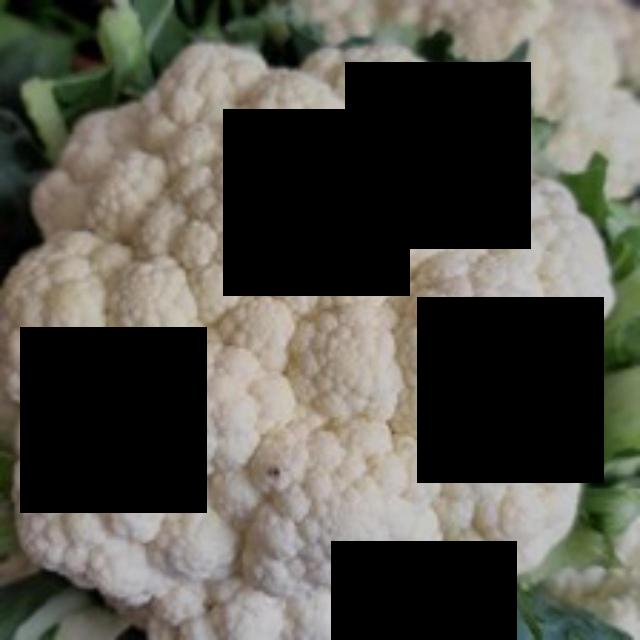cauliflower: (0, 34, 611, 637)
